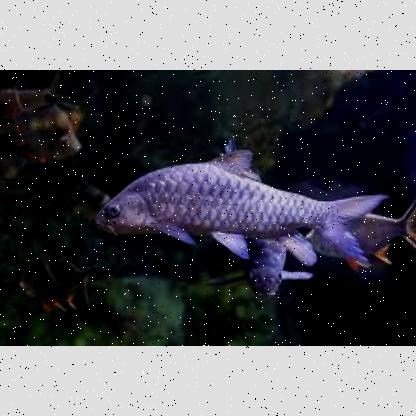ikan-mas: (95, 153, 359, 247), (213, 242, 311, 298)
